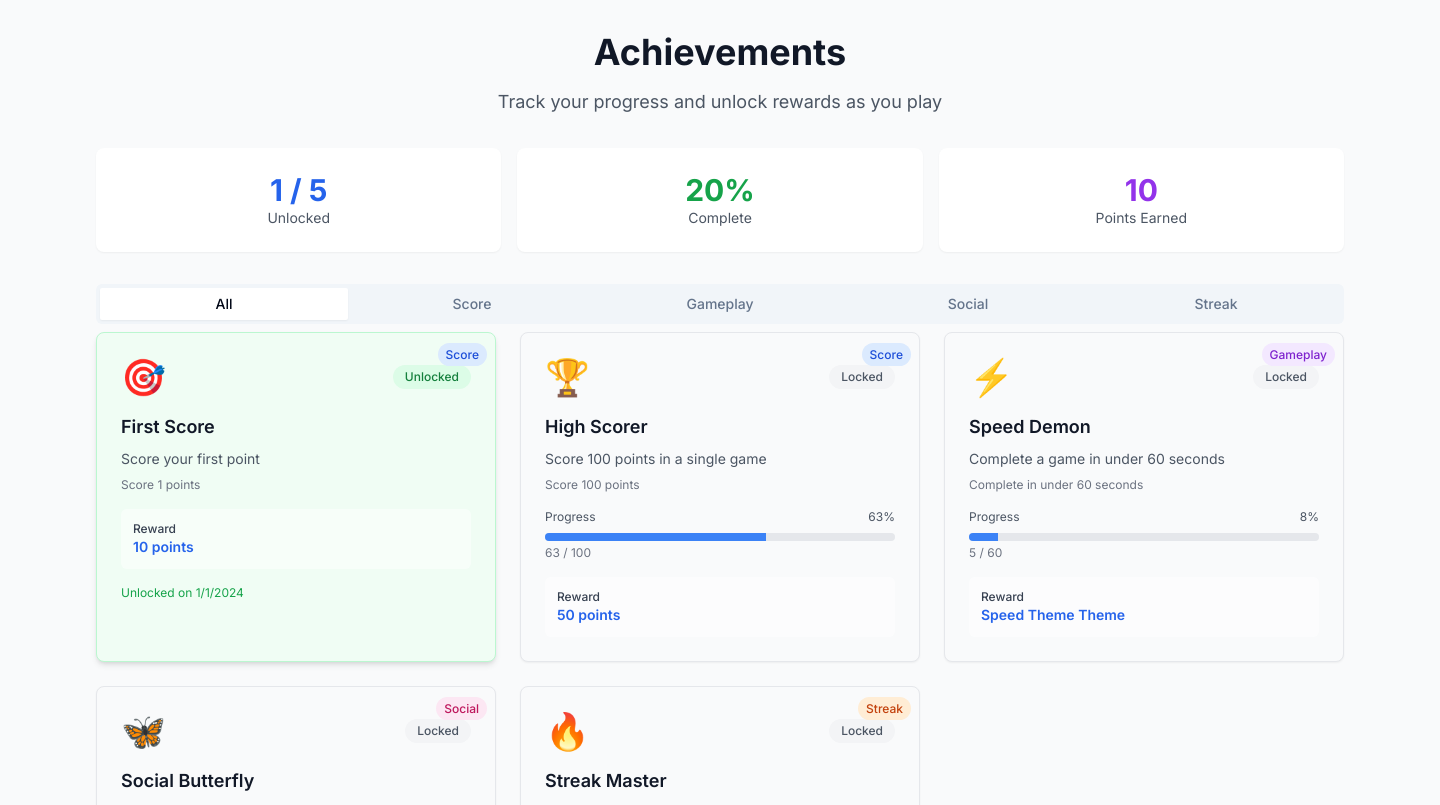
Test case: AchievementsPage › Category Filtering › should show all achievements when "All" tab is selected
Expected: the heading "First Score" is shown, [121,416,215,437]
Step 1. Click the tab "Score" → (472, 304), box [348,288,596,320]
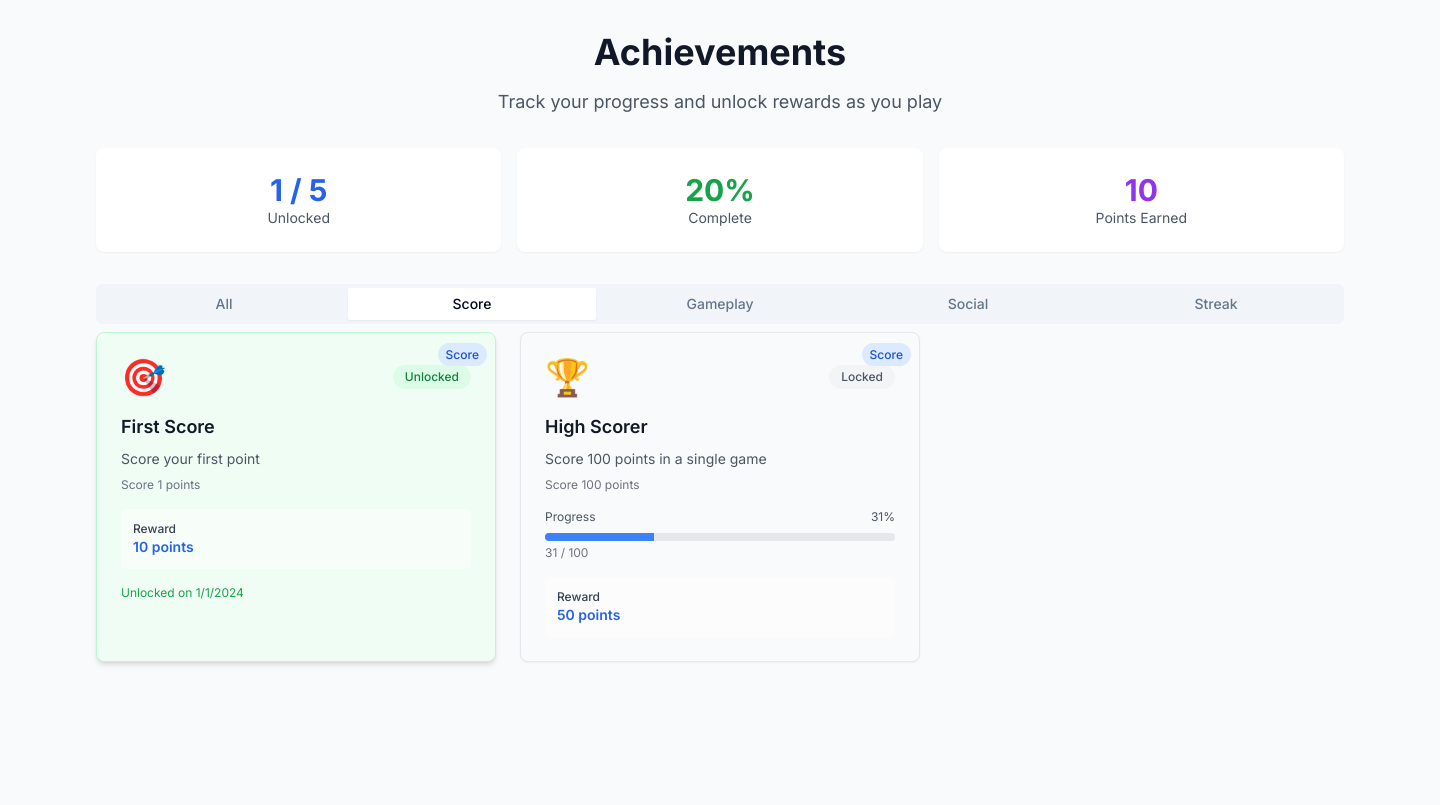
Note: Then click back to All
Step 2. Click the tab "All" → (224, 304), box [100,288,348,320]
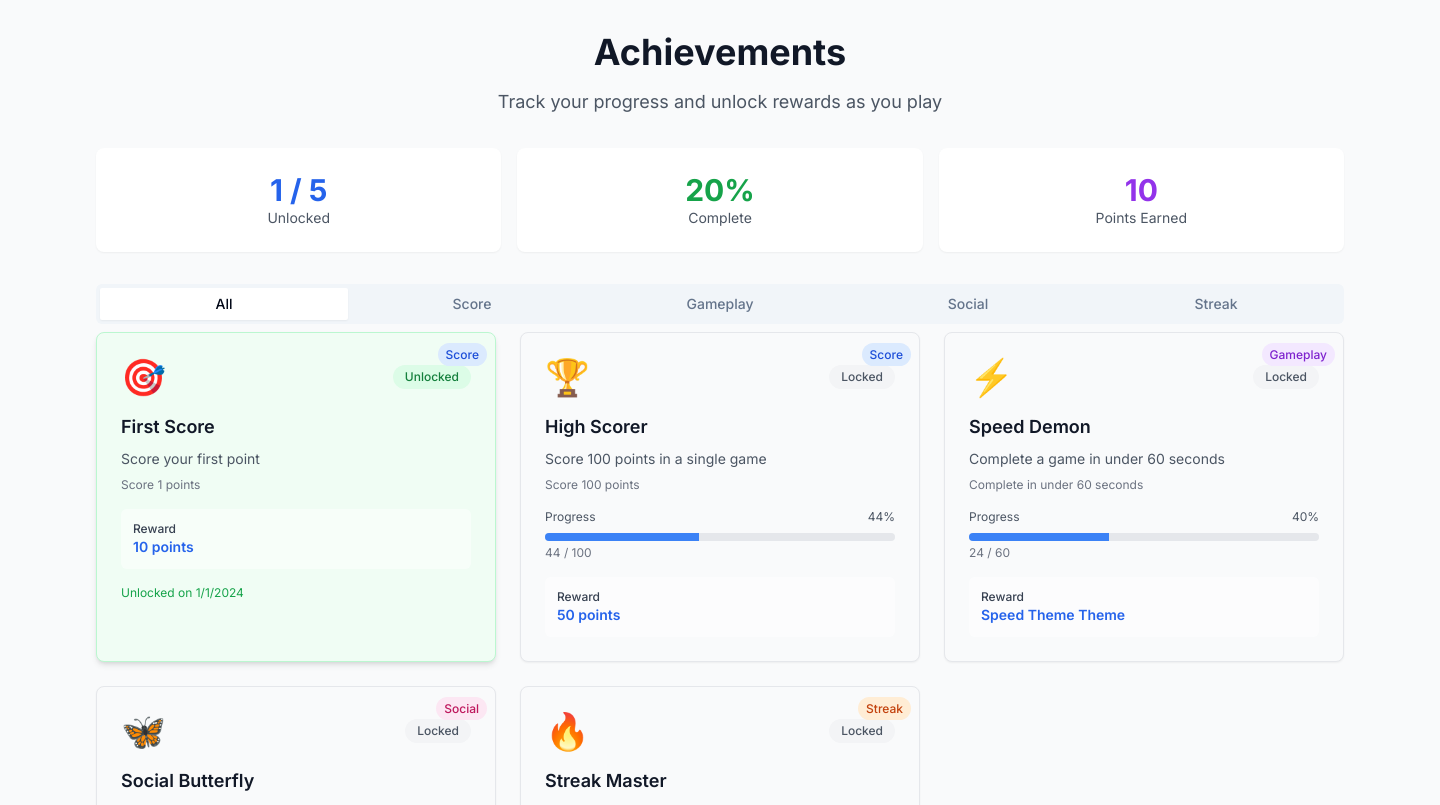
Expected: the heading "First Score" is shown, [121,416,215,437]
Now the heading "Speed Demon" is shown, box [969,416,1091,437]
Now the heading "Social Butterfly" is shown, box [121,770,254,791]
